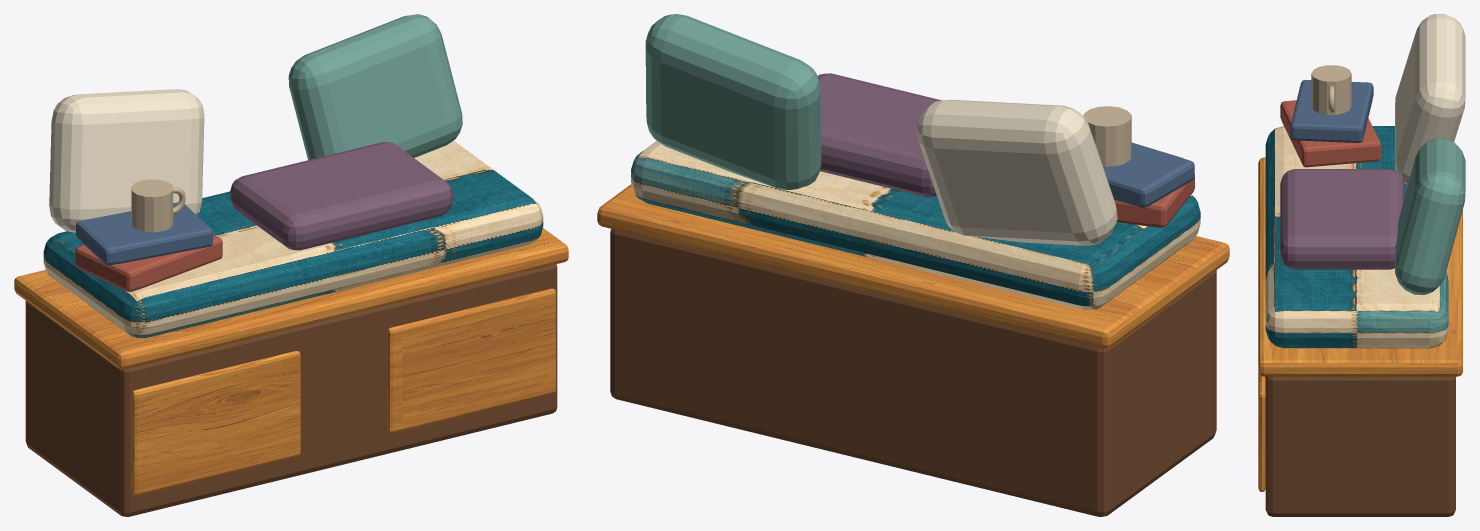
The picture shows the model from 3 angles, left to right: view 1: azimuth 30°, elevation 25°; view 2: azimuth 150°, elevation 25°; view 3: azimuth 270°, elevation 25°; orthographic projection. The views are drawn at different scales.
Parts seen in each view (by area): view 1: loft_oak, loft_wood_dark, loft_quilt, loft_teal_light, loft_cream, loft_plum, loft_blue, loft_red, loft_ceramic; view 2: loft_wood_dark, loft_quilt, loft_cream, loft_teal_light, loft_oak, loft_plum, loft_blue, loft_ceramic, loft_red; view 3: loft_wood_dark, loft_quilt, loft_plum, loft_oak, loft_cream, loft_teal_light, loft_blue, loft_red, loft_ceramic.
Boxes of the visible parts, x1,y1,x2,y2 form: loft_oak: (14,228,568,495); loft_wood_dark: (25,264,557,516); loft_quilt: (43,141,543,338); loft_teal_light: (288,14,462,160); loft_cream: (49,89,204,232); loft_plum: (230,142,452,250); loft_blue: (76,202,212,265); loft_red: (75,235,222,291); loft_ceramic: (131,179,185,232); loft_wood_dark: (610,229,1216,516); loft_quilt: (631,141,1200,309); loft_cream: (916,99,1117,245); loft_teal_light: (645,14,821,189); loft_oak: (597,184,1229,348); loft_plum: (818,73,941,196); loft_blue: (1103,142,1194,207); loft_ceramic: (1083,106,1131,166); loft_red: (1114,174,1194,227); loft_wood_dark: (1265,376,1455,516); loft_quilt: (1265,126,1448,348); loft_plum: (1280,169,1404,269); loft_oak: (1258,157,1462,491); loft_cream: (1395,14,1465,184); loft_teal_light: (1395,138,1465,294); loft_blue: (1290,80,1373,142); loft_red: (1280,100,1380,167); loft_ceramic: (1311,65,1351,114).
Size of the model in its own units: 1.34 by 0.9799 by 0.5665.
10 materials, 2 textured.
